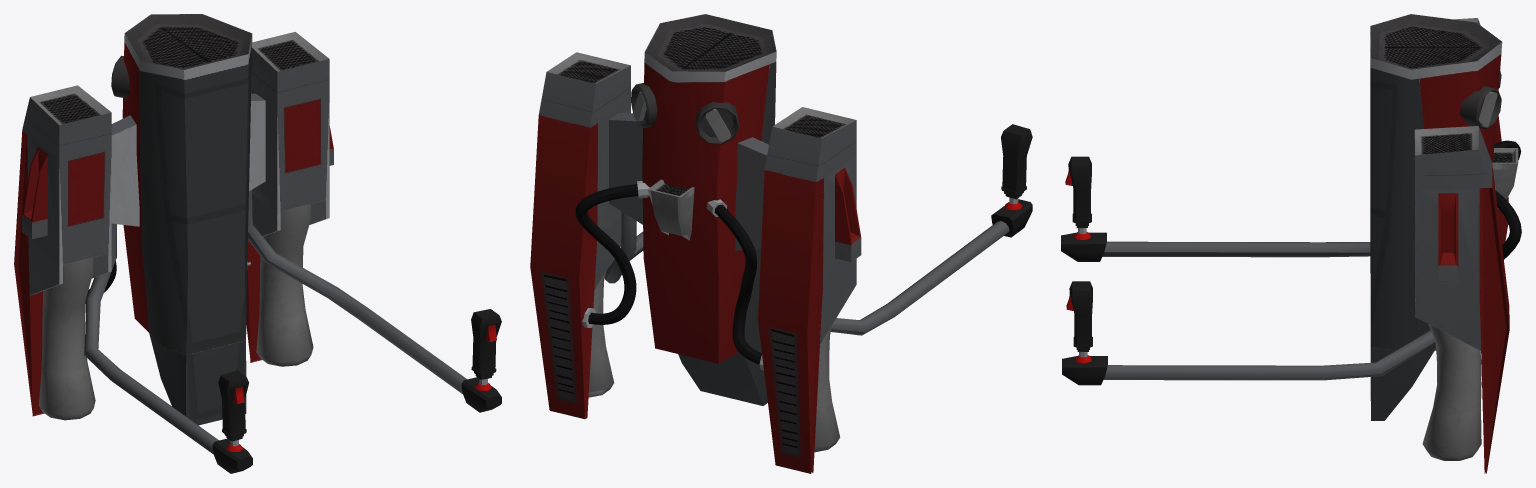
The model's file is jetpack.glb.
The picture shows the model from 3 angles, left to right: view 1: azimuth 30°, elevation 25°; view 2: azimuth 150°, elevation 25°; view 3: azimuth 270°, elevation 25°; orthographic projection. The views are drawn at different scales.
Visible parts, largest first — view 1: jetpack; view 2: jetpack; view 3: jetpack.
Part boxes in pixels (x1,y1,x2,y2): jetpack: [14, 14, 501, 473]; jetpack: [530, 14, 1032, 473]; jetpack: [1061, 14, 1521, 473].
Bounding box in the file's own units: 0.5801 × 0.6686 × 0.7551.
1 material, 1 textured.
